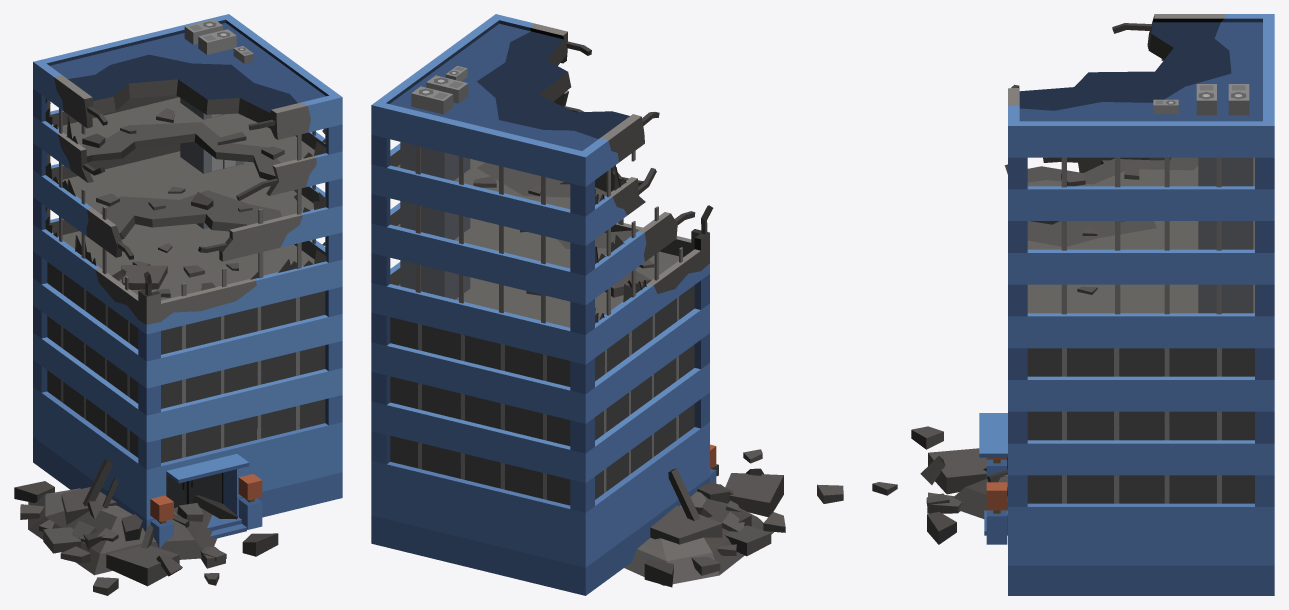
File: SA_Bld_Office_Damaged_02.glb
3 renders of one model, left to right at view 1: azimuth 30°, elevation 25°; view 2: azimuth 150°, elevation 25°; view 3: azimuth 270°, elevation 25°, orthographic. The views are drawn at different scales.
Parts seen in each view (by area): view 1: SA_Bld_Office_Damaged_02; view 2: SA_Bld_Office_Damaged_02; view 3: SA_Bld_Office_Damaged_02.
Part boxes in pixels (<box>): SA_Bld_Office_Damaged_02: <box>14,14,342,595</box>; SA_Bld_Office_Damaged_02: <box>371,14,843,595</box>; SA_Bld_Office_Damaged_02: <box>872,14,1274,595</box>.
Bounding box in the file's own units: 8.29 × 11.83 × 8.68.
Materials: 1 (1 with a texture image).
